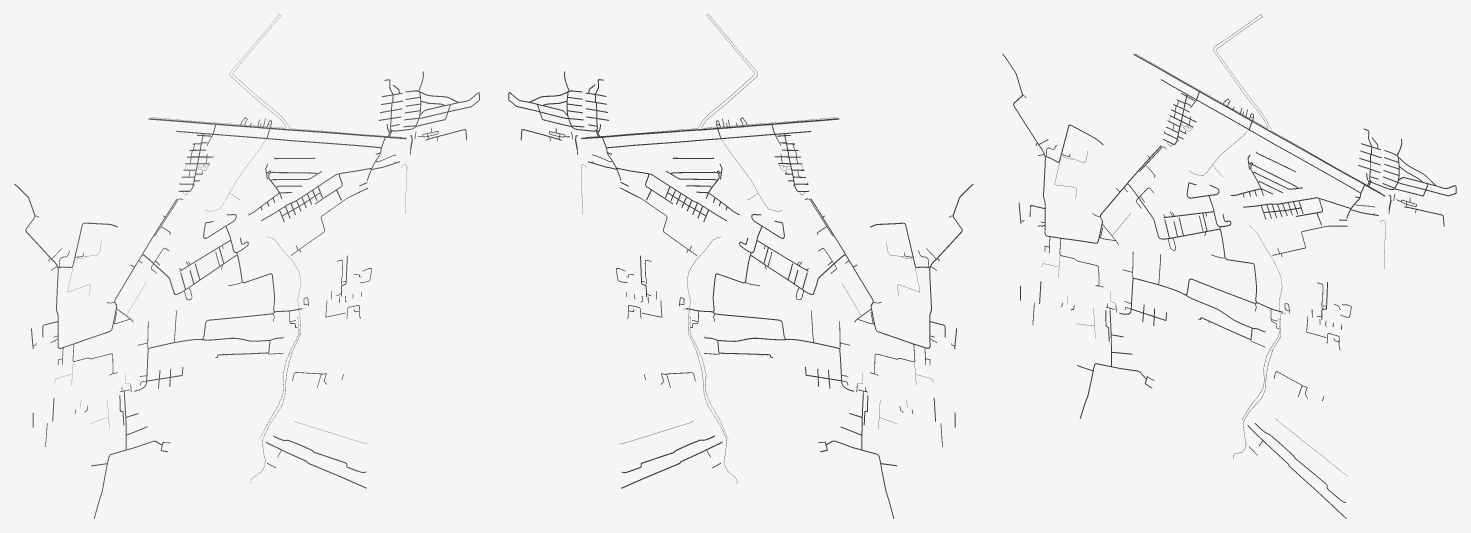
Rendered from roads_1_0.obj.
3 views of the same model, side by side, from view 1: azimuth 30°, elevation 25°; view 2: azimuth 150°, elevation 25°; view 3: azimuth 330°, elevation 25° (orthographic). The views are drawn at different scales.
Bounding box in the file's own units: 2811 × 2861 × 10.11.
Materials: 3 (3 with a texture image).
